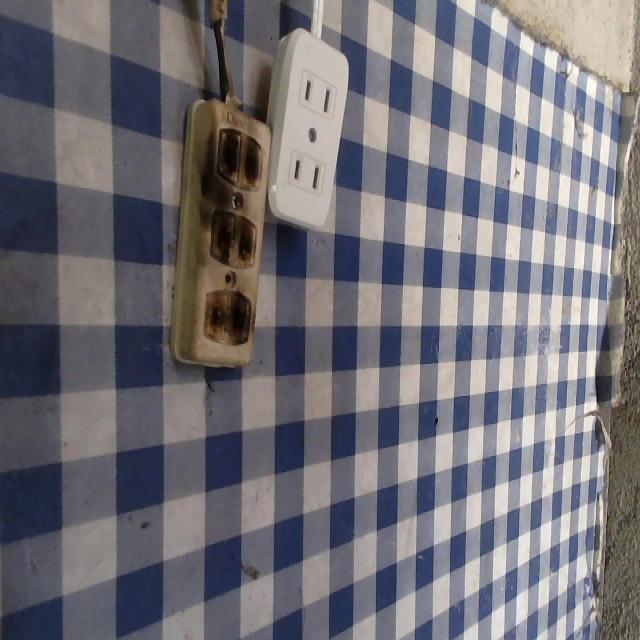-: (213, 123, 263, 193), (206, 204, 258, 267), (204, 286, 252, 346)
